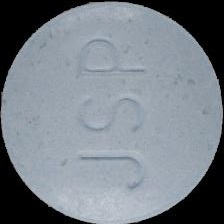21695-756: (0, 0, 224, 224)
